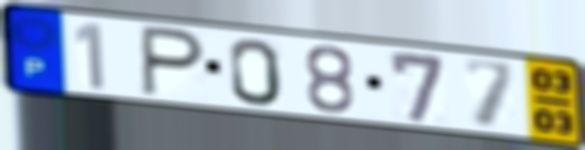0: (226, 36, 286, 108)
1: (73, 20, 106, 92)
7: (387, 48, 450, 126), (462, 57, 518, 130)
8: (303, 43, 355, 115)
P: (139, 22, 209, 100)
